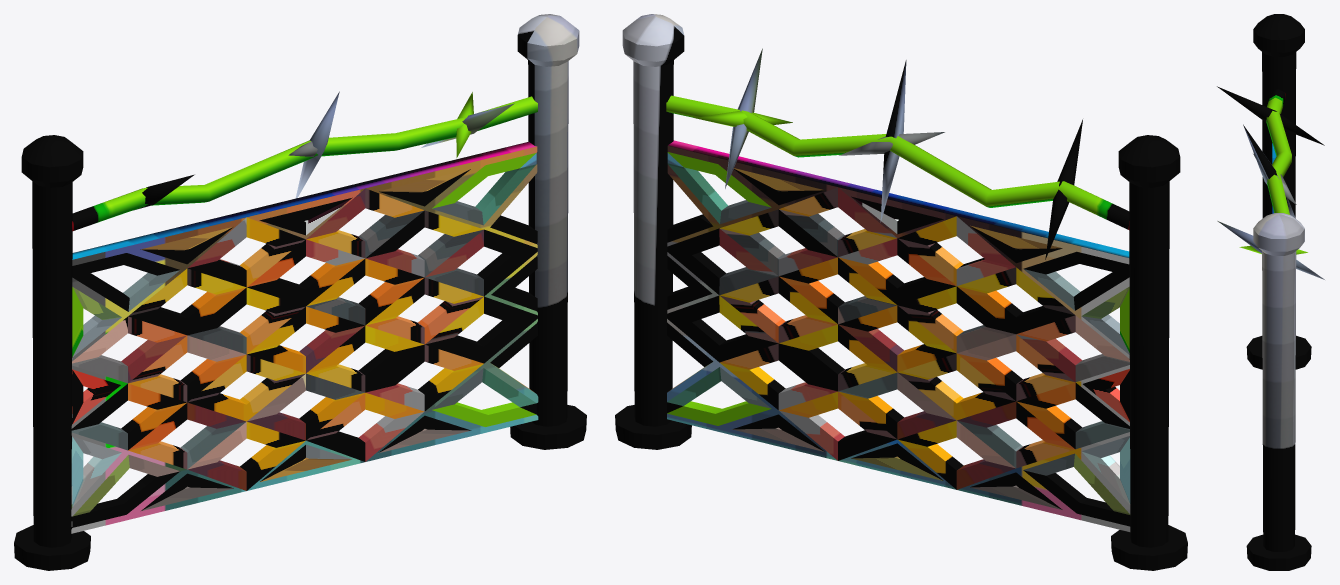
The model's file is Fence_3.FBX.
3 views of the same model, side by side, from view 1: azimuth 30°, elevation 25°; view 2: azimuth 150°, elevation 25°; view 3: azimuth 270°, elevation 25° (orthographic). The views are drawn at different scales.
Parts seen in each view (by area): view 1: Fence_3; view 2: Fence_3; view 3: Fence_3.
Boxes of the visible parts, x1=… form: Fence_3: x1=14, y1=14, x2=586, y2=570; Fence_3: x1=615, y1=14, x2=1187, y2=570; Fence_3: x1=1217, y1=14, x2=1324, y2=570.
Size of the model in its own units: 167 by 119 by 34.3.
1 material, 1 textured.
